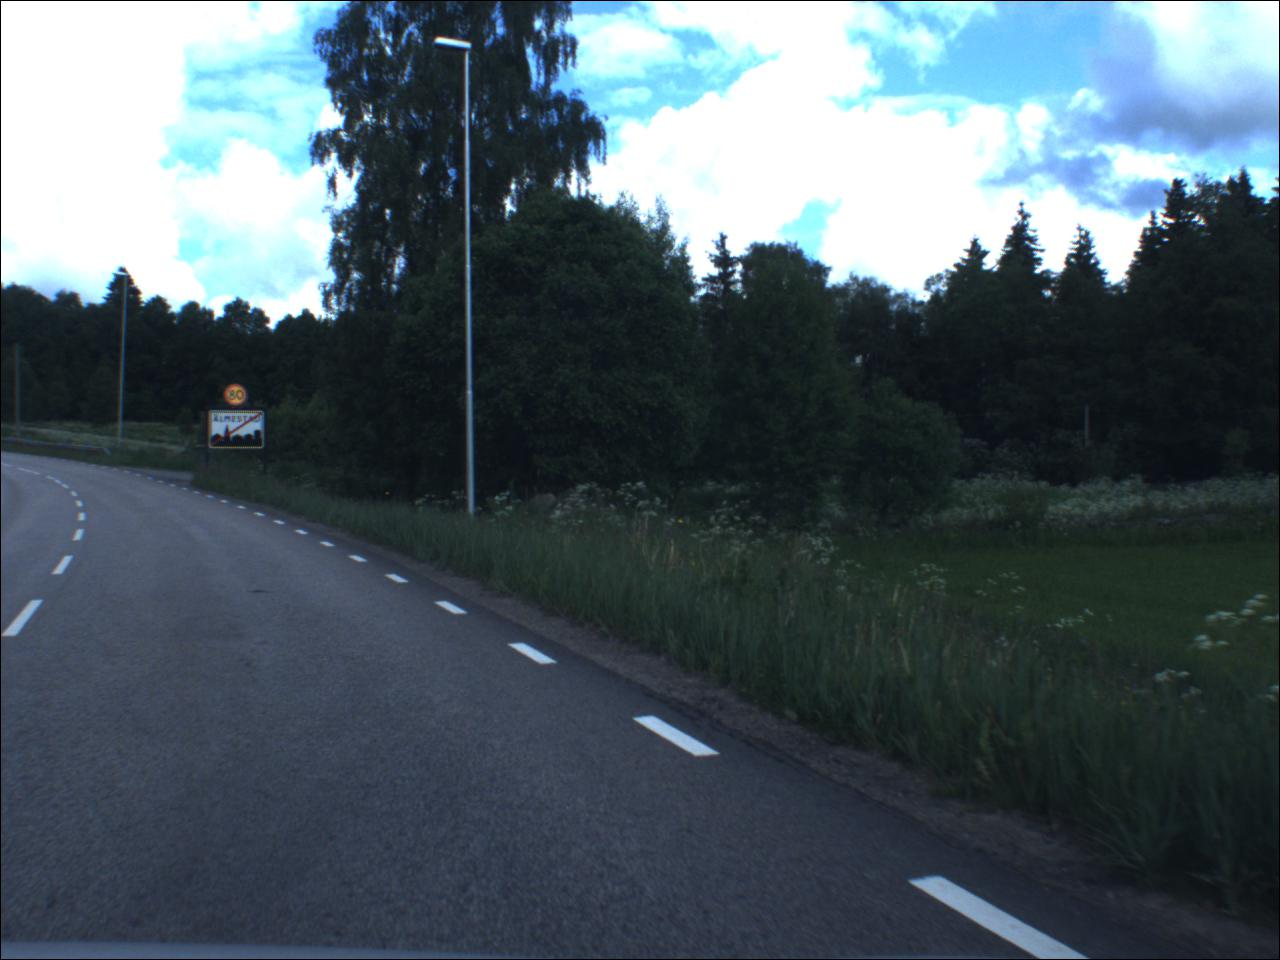80_SIGN: (225, 384, 250, 411)
